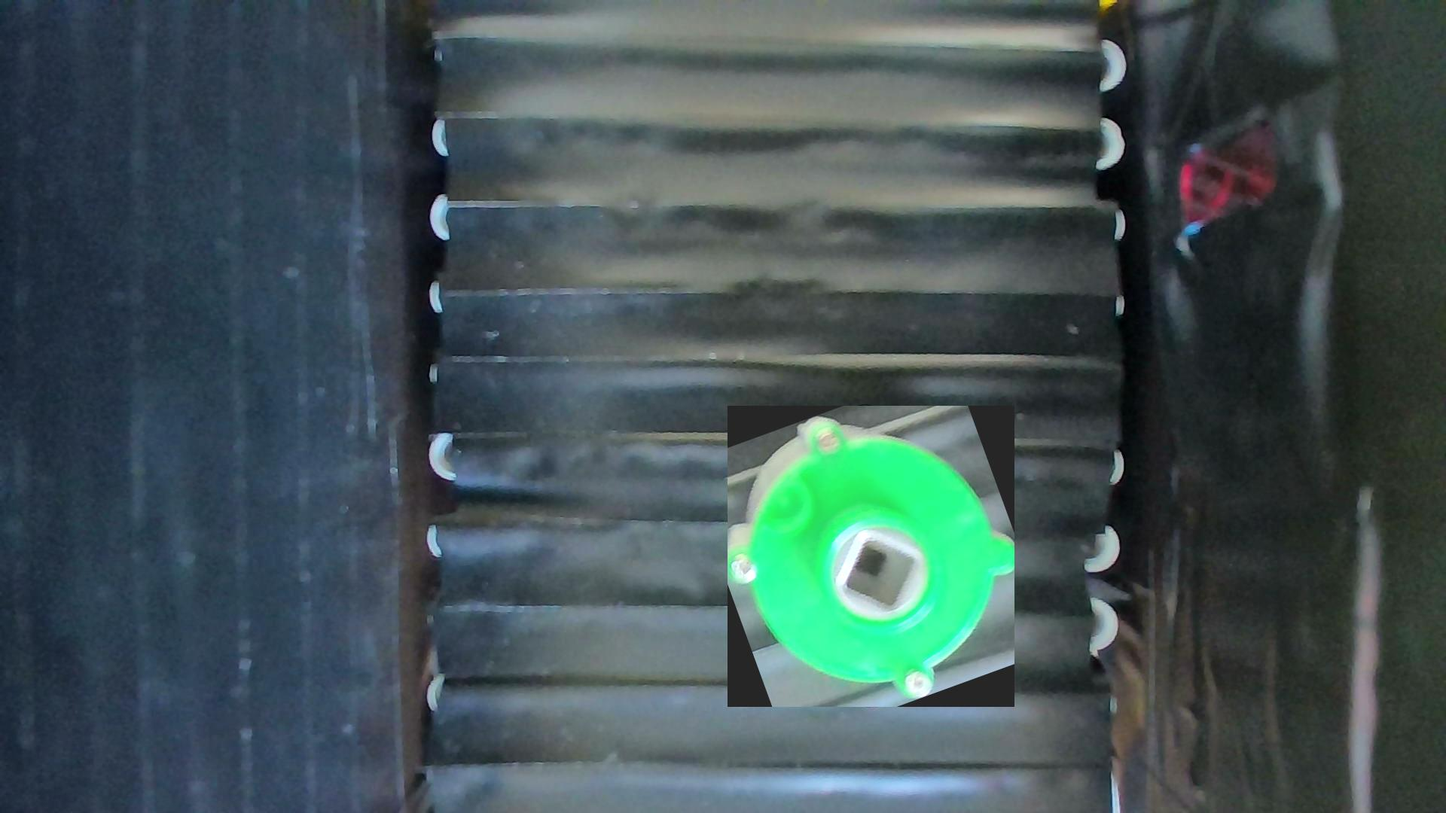cartridge: (728, 406, 1014, 707)
